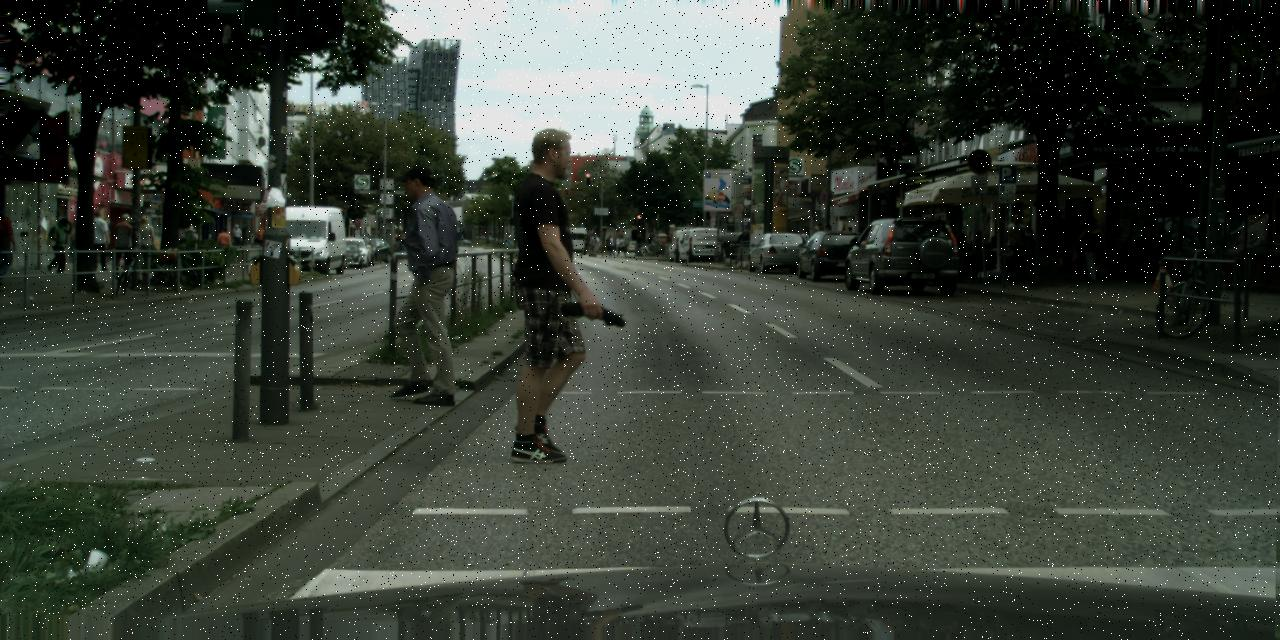ped: (476, 126, 615, 465), (372, 165, 467, 396), (1078, 215, 1104, 279), (1044, 210, 1070, 273), (1005, 214, 1030, 275), (86, 210, 110, 271), (111, 213, 135, 273), (0, 205, 17, 289), (48, 218, 70, 272), (1016, 216, 1036, 270), (135, 216, 155, 266), (94, 216, 112, 262), (217, 226, 229, 258), (810, 225, 821, 254), (230, 224, 241, 252), (814, 222, 825, 250), (844, 226, 855, 253), (799, 228, 809, 255), (592, 233, 602, 256), (581, 235, 590, 256), (256, 225, 264, 248), (588, 233, 596, 255), (616, 235, 624, 255), (396, 232, 403, 250), (606, 238, 612, 255)
